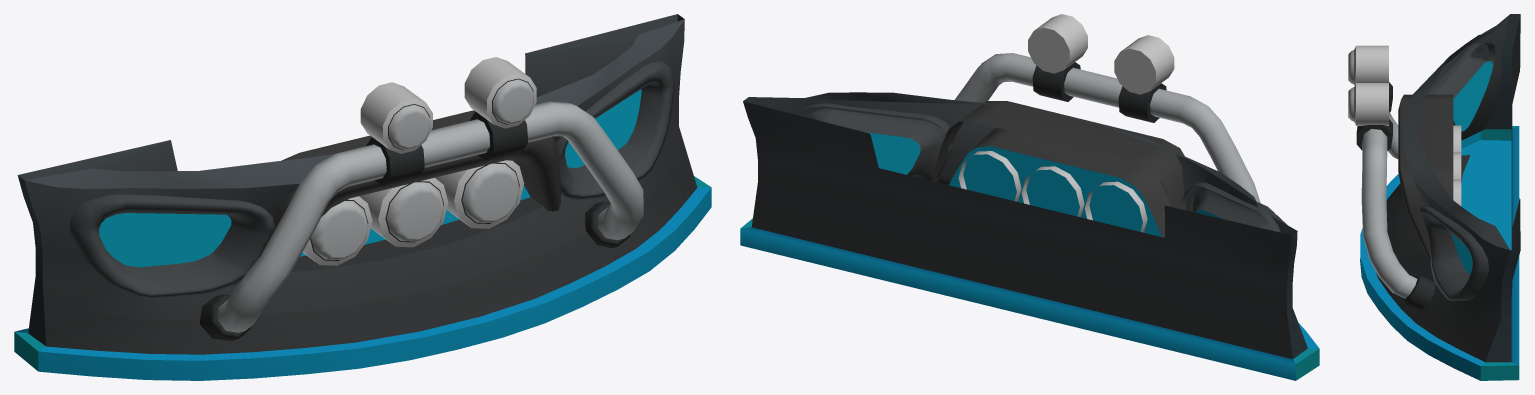
File: Car_05_FrontBumper_Cool.fbx
3 renders of one model, left to right at view 1: azimuth 30°, elevation 25°; view 2: azimuth 150°, elevation 25°; view 3: azimuth 270°, elevation 25°, orthographic. The views are drawn at different scales.
Visible parts, largest first — view 1: Car_05_FrontBumper_Cool; view 2: Car_05_FrontBumper_Cool; view 3: Car_05_FrontBumper_Cool.
Boxes of the visible parts, box(x1,y1,x2,y2) form: Car_05_FrontBumper_Cool: box(14, 14, 711, 380); Car_05_FrontBumper_Cool: box(740, 14, 1319, 380); Car_05_FrontBumper_Cool: box(1348, 14, 1520, 380).
Bounding box in the file's own units: 190 × 57.55 × 71.39.
